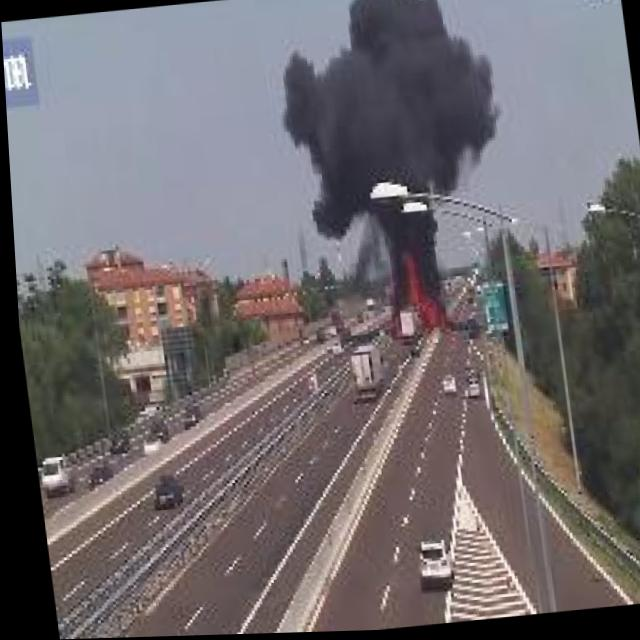fire: (376, 244, 456, 348)
